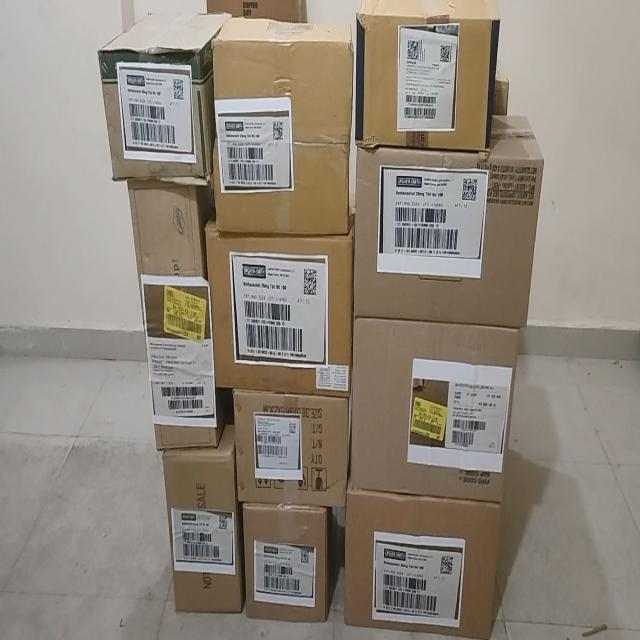BoxFace: (353, 144, 544, 326), (210, 15, 354, 236), (350, 316, 520, 502), (204, 214, 354, 393), (125, 176, 218, 453), (343, 481, 503, 638), (355, 0, 501, 152), (160, 424, 244, 614), (96, 41, 205, 183), (232, 386, 350, 506), (242, 500, 334, 622)
